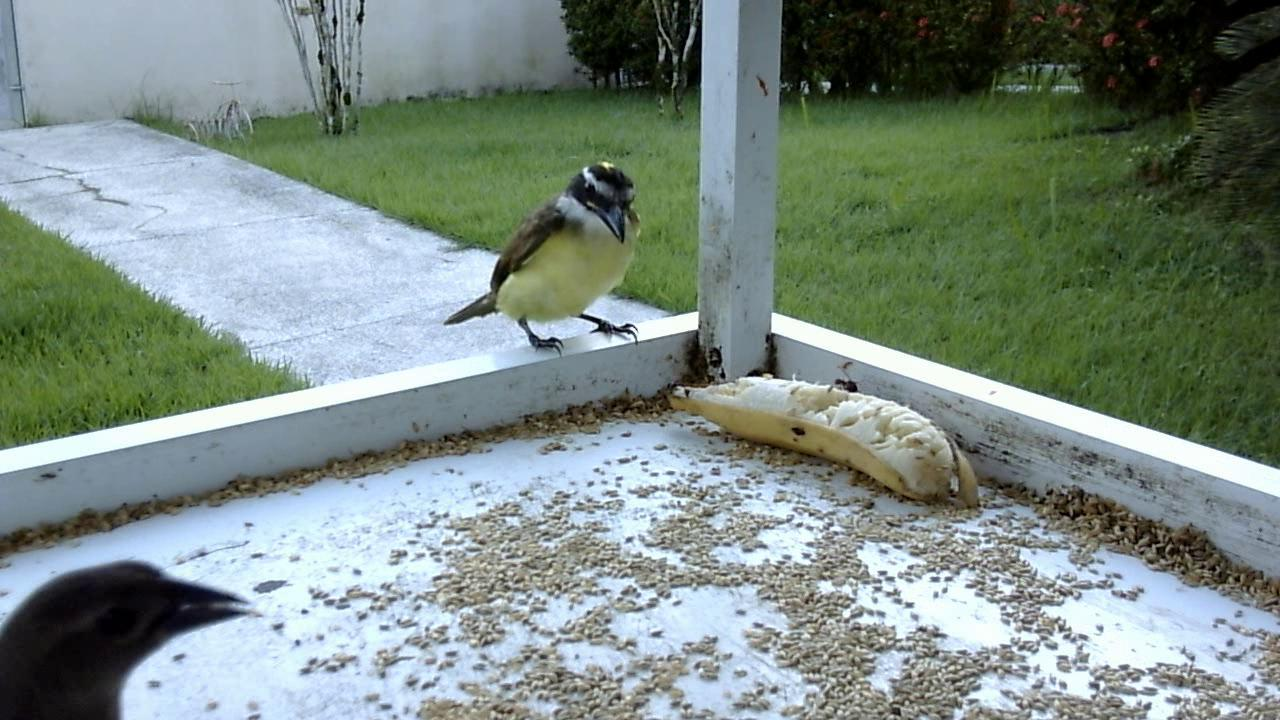bem_te_vi: (436, 159, 651, 368)
chupim: (1, 546, 267, 718)
